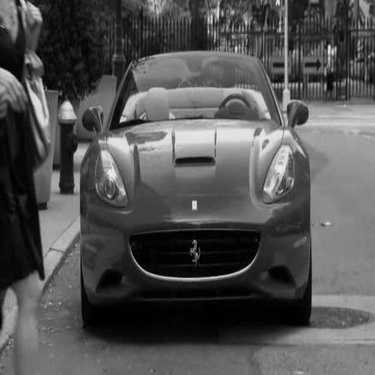car: (60, 40, 319, 334)
